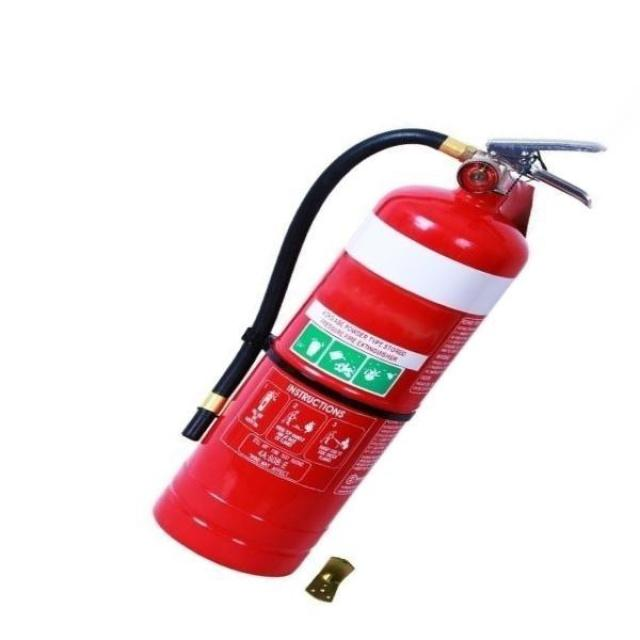fire_extinguisher: (144, 123, 611, 581)
